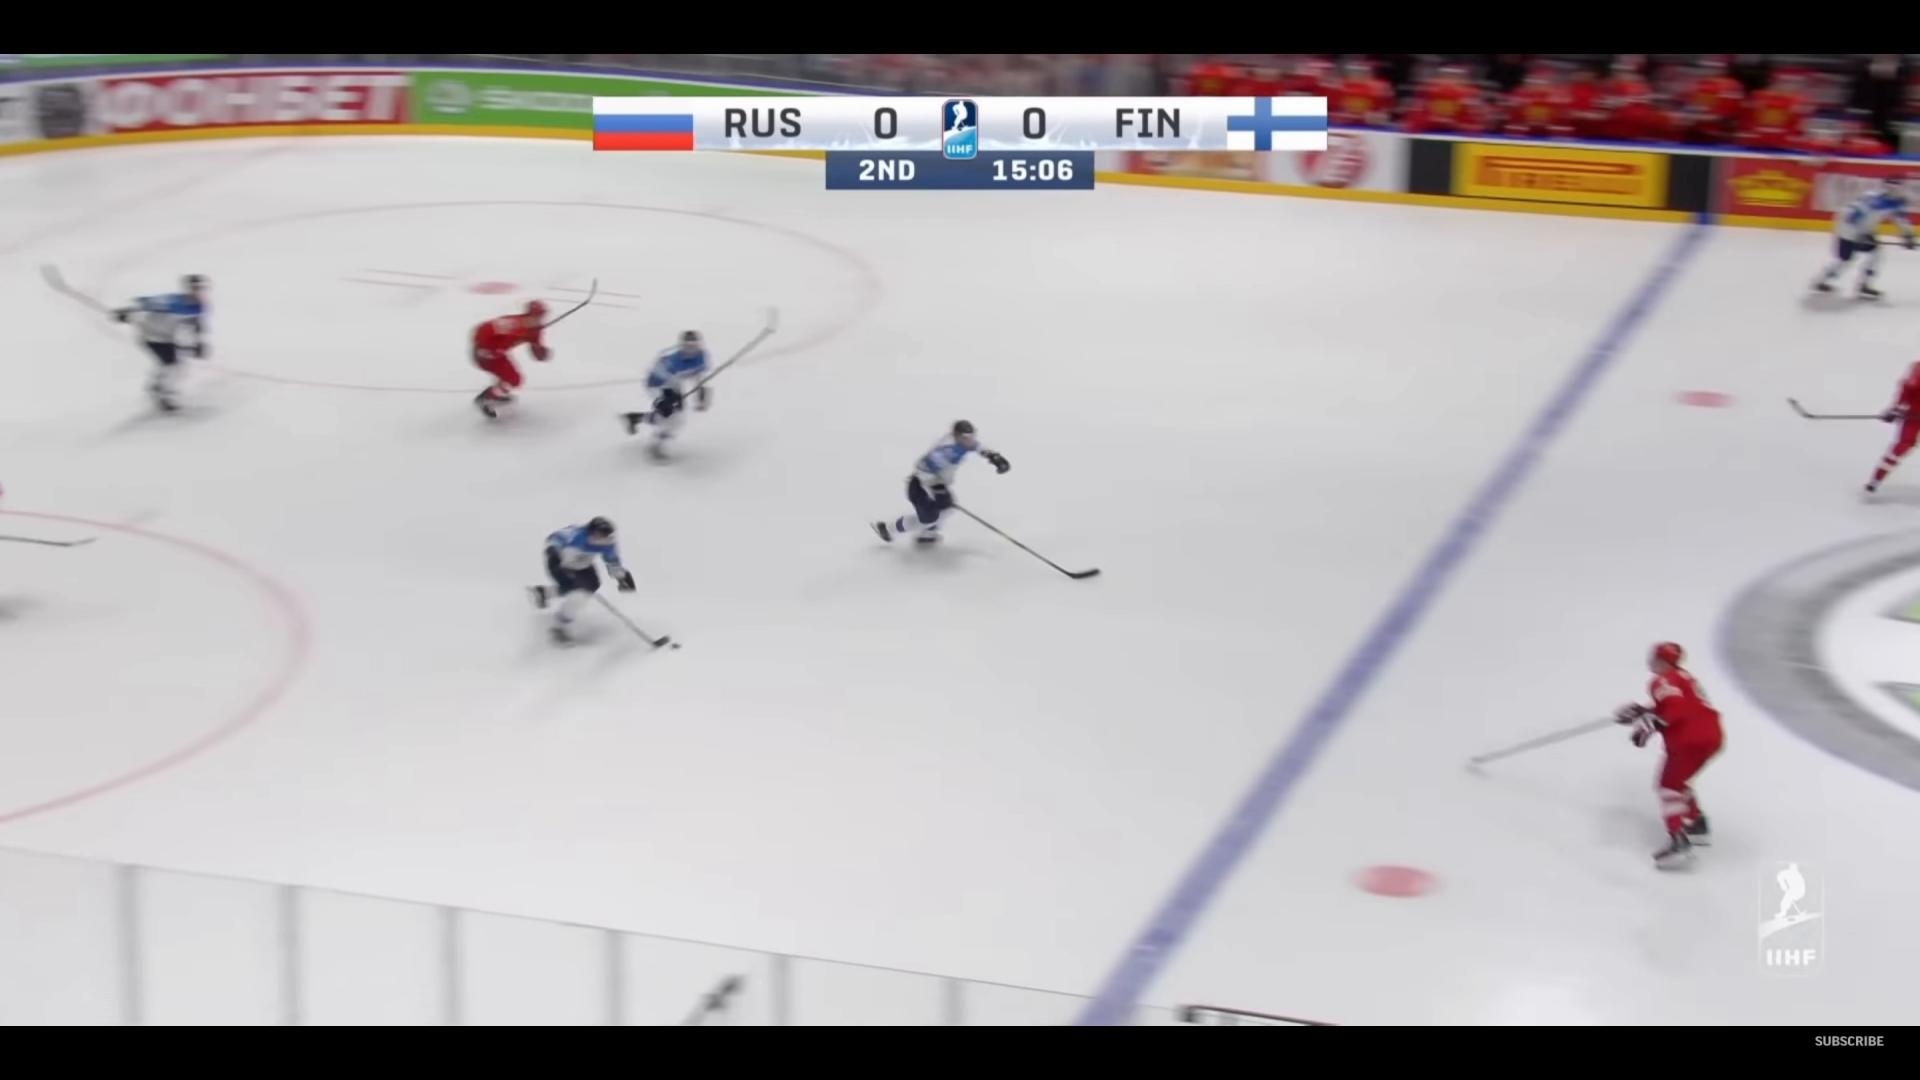puck: (671, 642, 679, 649)
